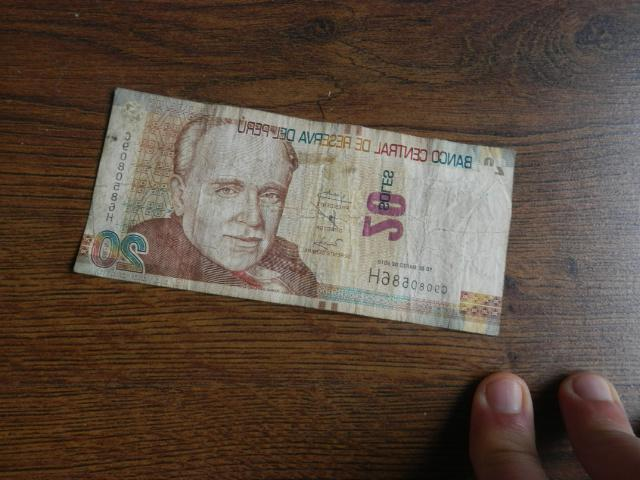B20: (70, 88, 516, 339)
